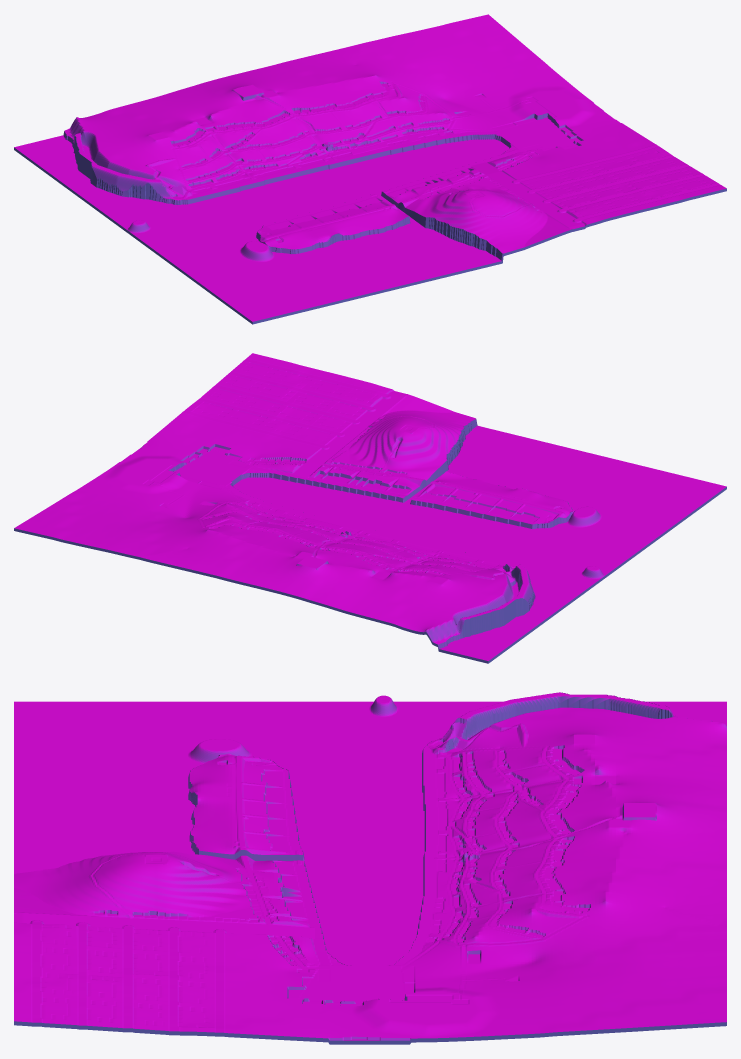
Rendered from ground_heart.fbx.
3 views of the same model, one above another, from view 1: azimuth 30°, elevation 25°; view 2: azimuth 150°, elevation 25°; view 3: azimuth 270°, elevation 25° (orthographic). The views are drawn at different scales.
Parts seen in each view (by area): view 1: ground_heart; view 2: ground_heart; view 3: ground_heart.
Boxes of the visible parts, x1,y1,x2,y2 form: ground_heart: (14, 14, 726, 324); ground_heart: (14, 353, 726, 663); ground_heart: (14, 692, 726, 1044).
Bounding box in the file's own units: 930 × 56.72 × 810.
